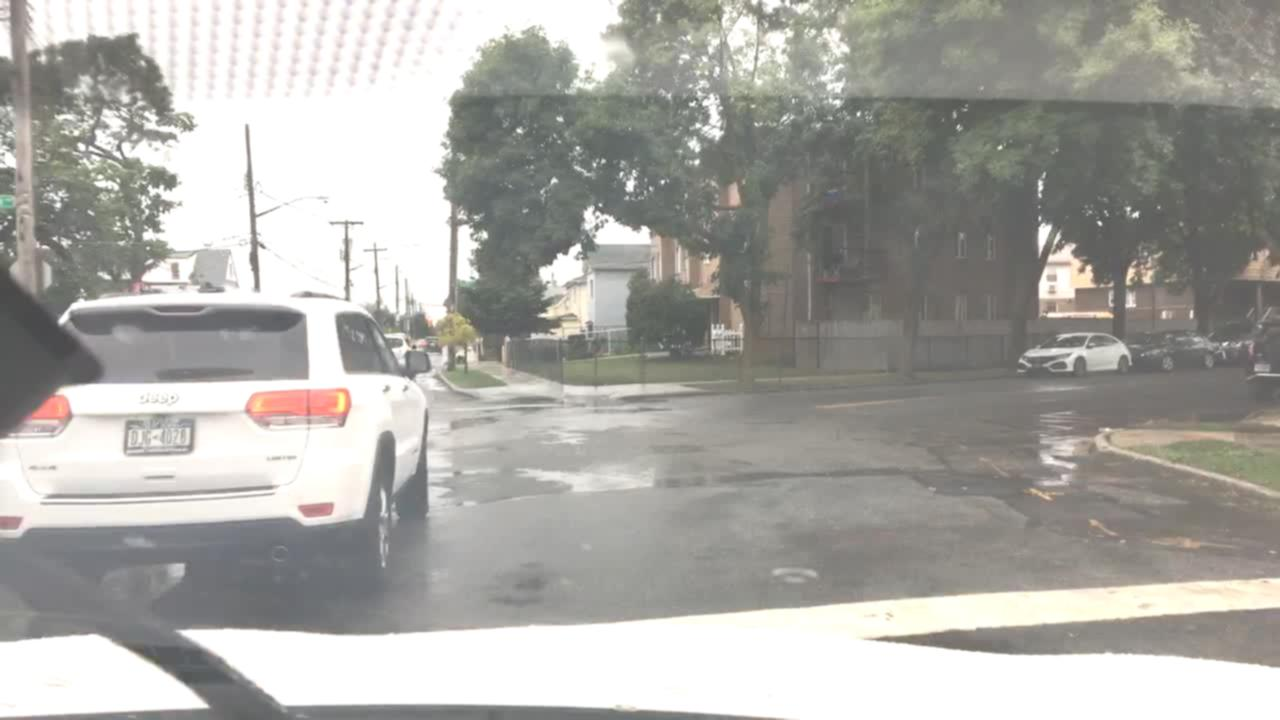jeep: (130, 383, 181, 412)
